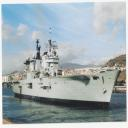Portanaves: (7, 20, 123, 112)
